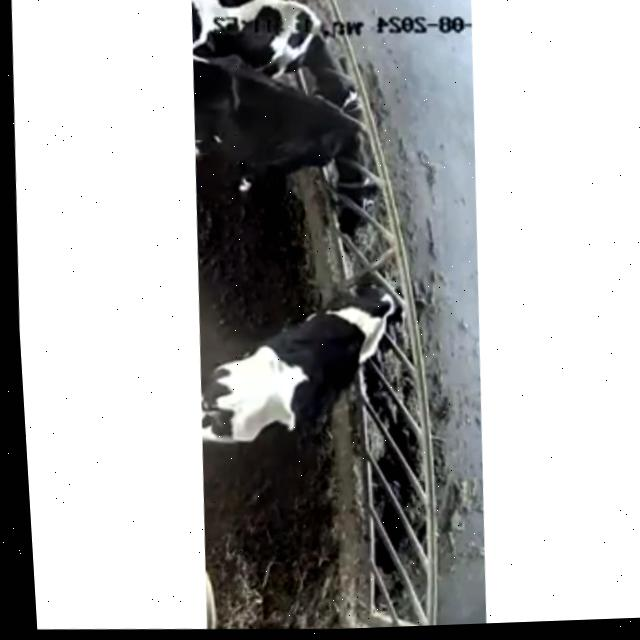eat: (260, 96, 416, 238), (293, 266, 459, 368), (245, 0, 393, 107)
